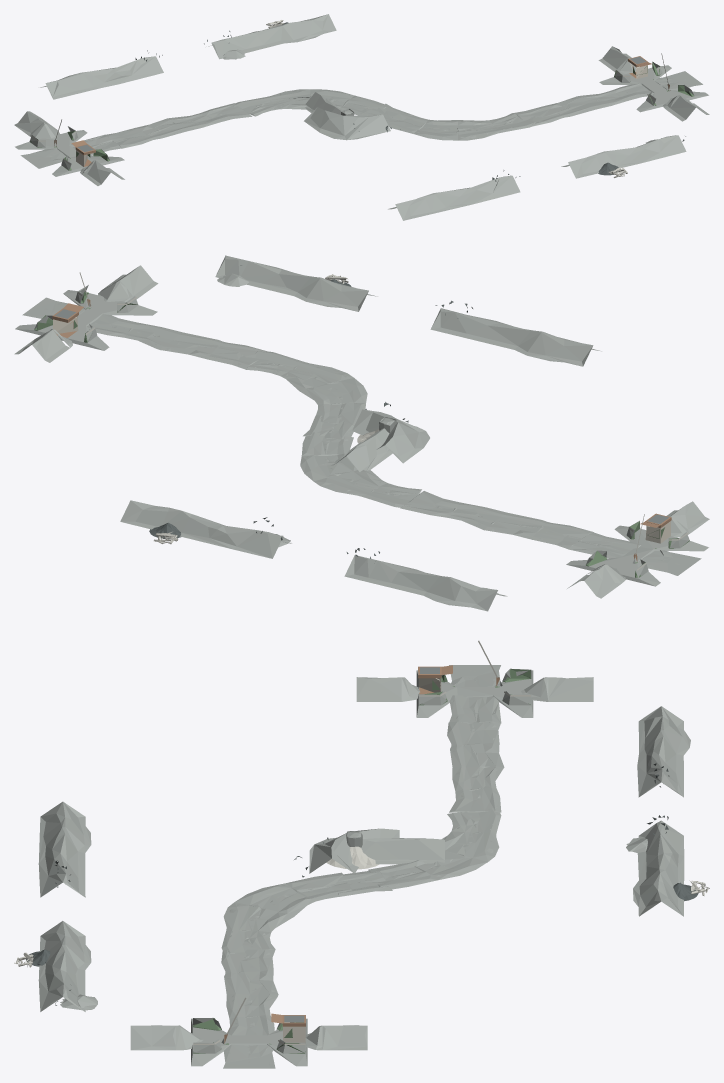
The model's file is desert_military_base_d.glb.
3 views of the same model, one above another, from view 1: azimuth 30°, elevation 25°; view 2: azimuth 150°, elevation 25°; view 3: azimuth 270°, elevation 25° (orthographic). The views are drawn at different scales.
Parts seen in each view (by area): view 1: dirt_mound_1200_LOD0, checkpoint_single_rural_LOD0, cave_gravel_a_LOD0; view 2: dirt_mound_1200_LOD0, checkpoint_single_rural_LOD0, cave_gravel_a_LOD0; view 3: dirt_mound_1200_LOD0, checkpoint_single_rural_LOD0, cave_gravel_a_LOD0, barbedwire_set_straight300_LOD0.
Part boxes in pixels (x1=…): dirt_mound_1200_LOD0: x1=14, y1=14, x2=709, y2=220; checkpoint_single_rural_LOD0: x1=30, y1=56, x2=694, y2=170; cave_gravel_a_LOD0: x1=30, y1=20, x2=668, y2=177; dirt_mound_1200_LOD0: x1=14, y1=255, x2=709, y2=611; checkpoint_single_rural_LOD0: x1=34, y1=291, x2=689, y2=577; cave_gravel_a_LOD0: x1=77, y1=272, x2=688, y2=570; dirt_mound_1200_LOD0: x1=38, y1=665, x2=690, y2=1068; checkpoint_single_rural_LOD0: x1=193, y1=665, x2=531, y2=1053; cave_gravel_a_LOD0: x1=14, y1=640, x2=709, y2=1044; barbedwire_set_straight300_LOD0: x1=26, y1=763, x2=698, y2=1005.
Size of the model in its own units: 127 by 8.37 by 92.46.
